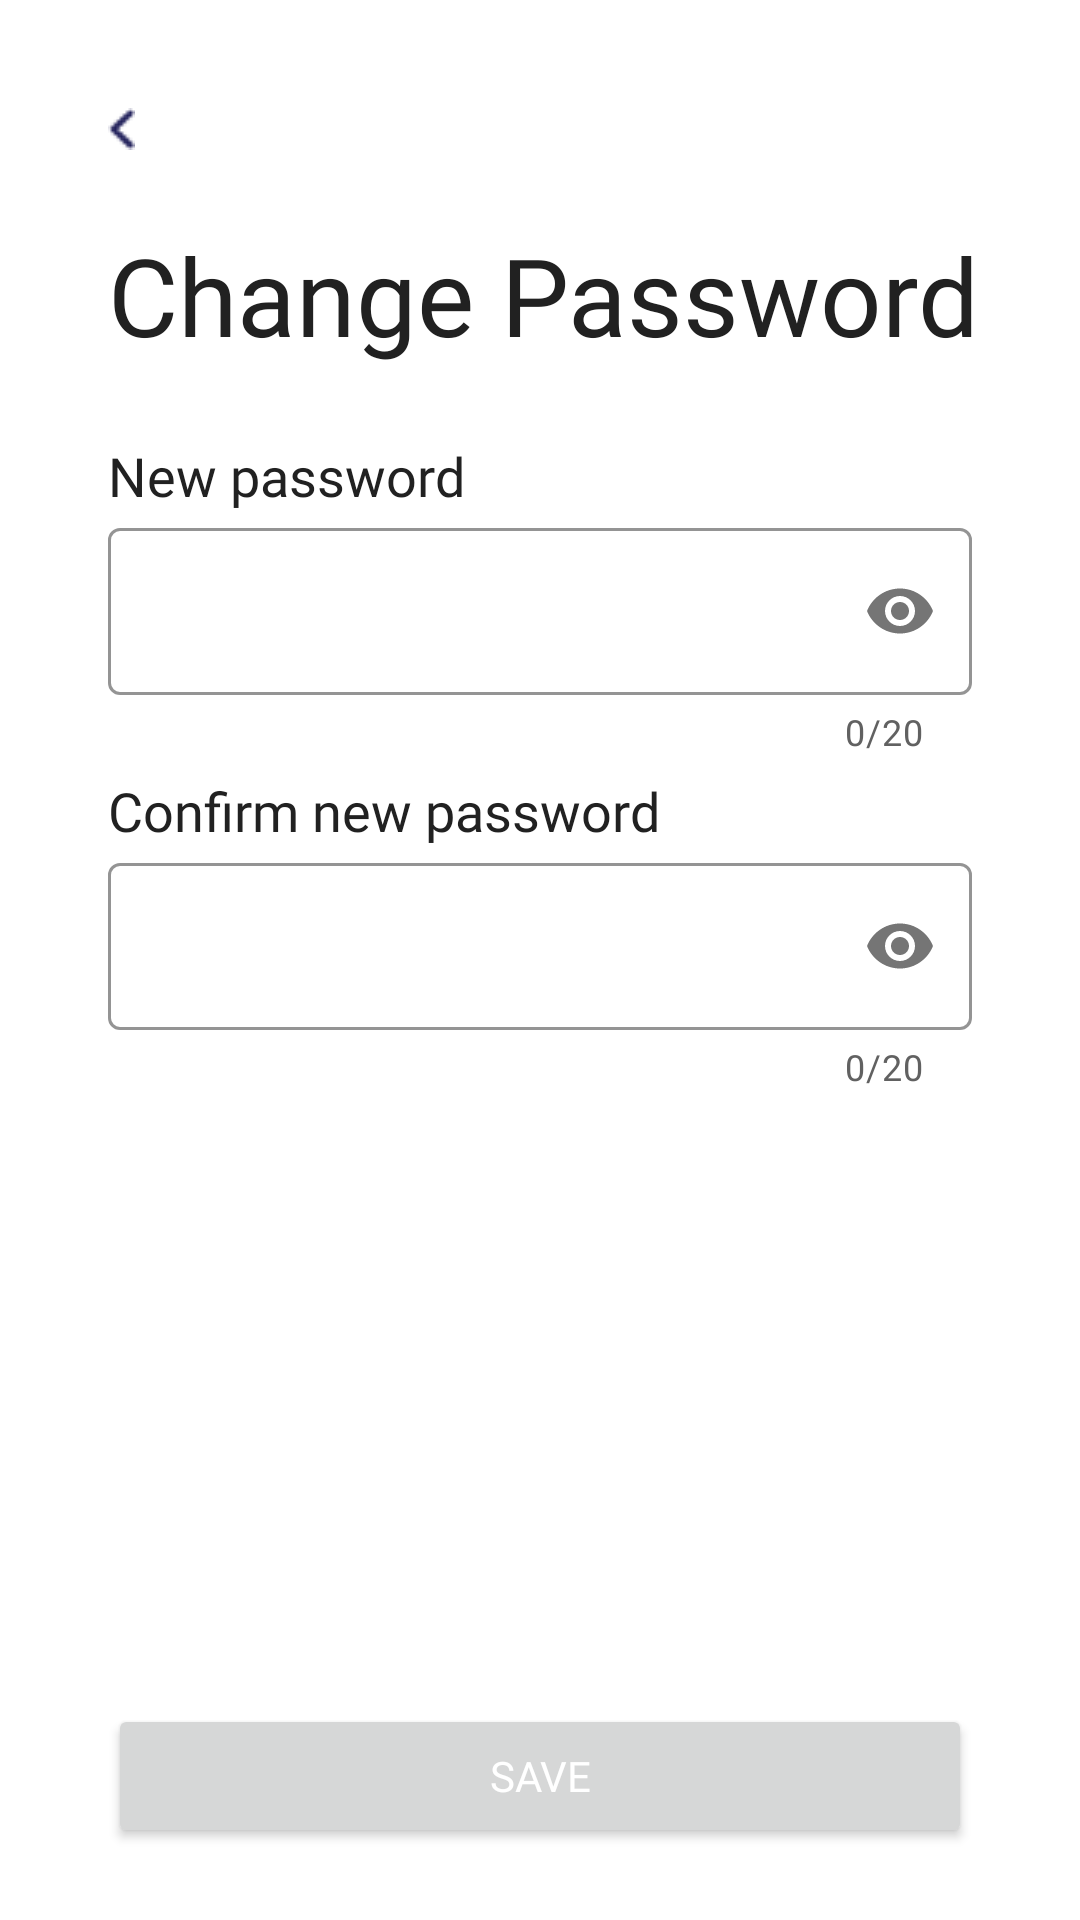

Locate icon controls on the screen. Image size 1080 × 1920, boxes as Rect(x1, y1, x2, y2).
back arrow: Rect(108, 108, 135, 150)
